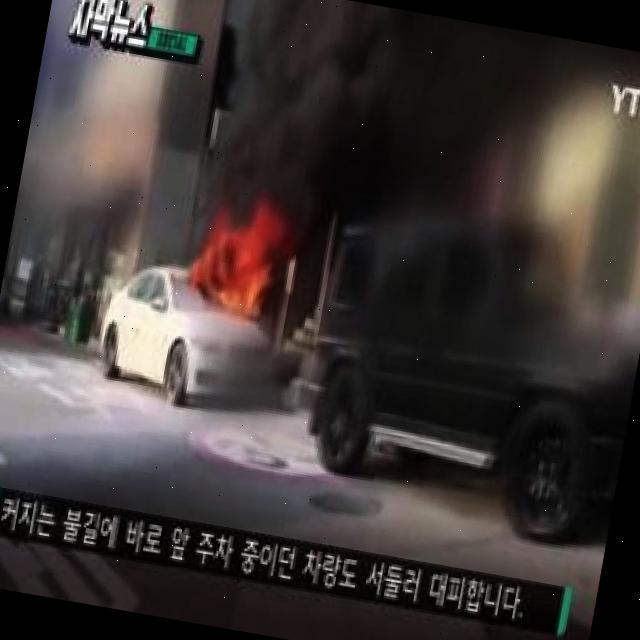fire: (194, 216, 276, 320)
